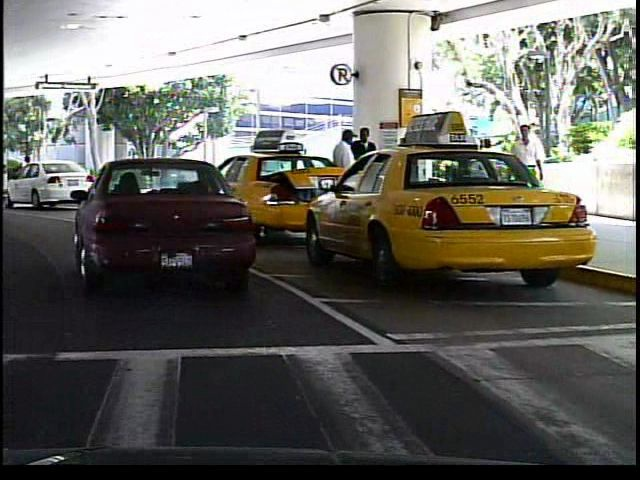person: (509, 118, 549, 228), (328, 126, 359, 224), (351, 126, 380, 219), (14, 150, 38, 194)
